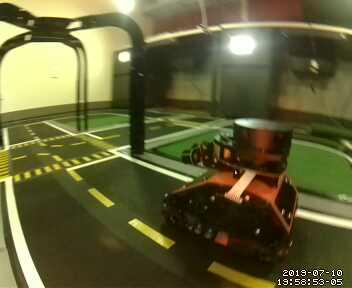pheeno: (160, 116, 300, 261)
